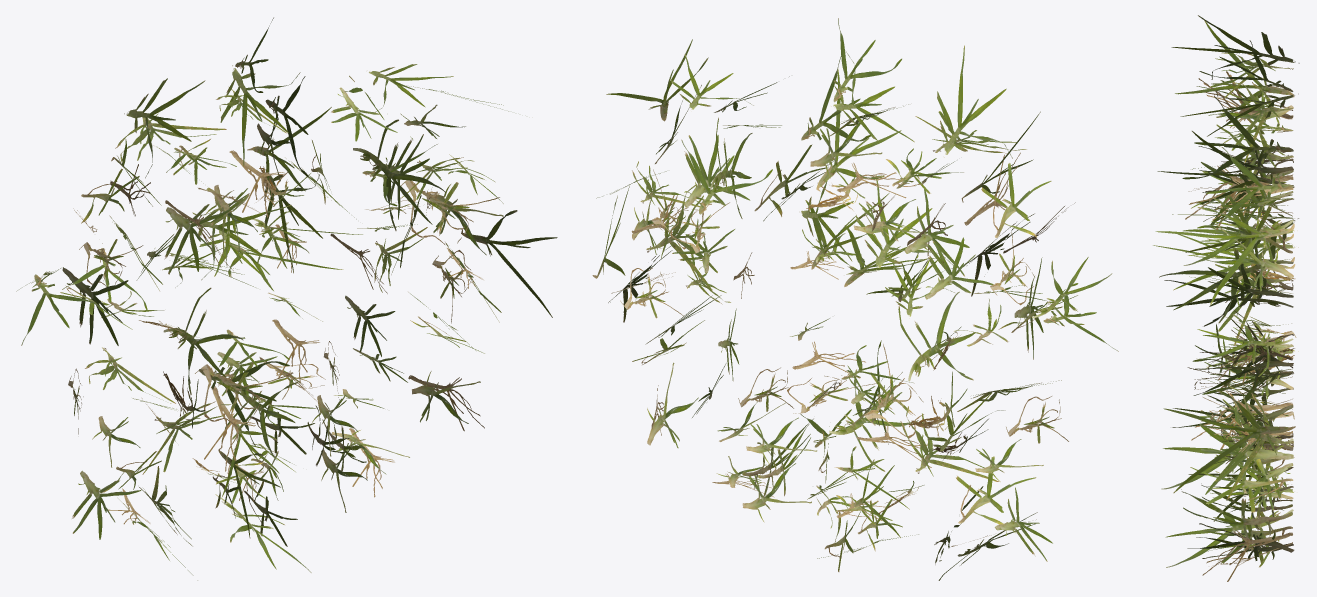
File: Grass_01_Var3_LOD1.fbx
3 views of the same model, side by side, from view 1: azimuth 30°, elevation 25°; view 2: azimuth 150°, elevation 25°; view 3: azimuth 270°, elevation 25° (orthographic). The views are drawn at different scales.
Visible parts, largest first — view 1: Var3_LOD1; view 2: Var3_LOD1; view 3: Var3_LOD1.
Part boxes in pixels (bbox=[...]): Var3_LOD1: bbox=[16, 17, 557, 580]; Var3_LOD1: bbox=[592, 18, 1118, 580]; Var3_LOD1: bbox=[1153, 15, 1299, 581].
Size of the model in its own units: 84.72 by 84.85 by 21.78.
